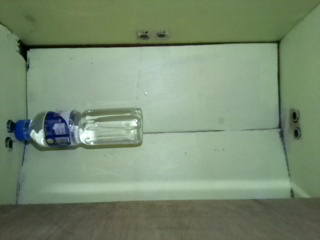bottle: (14, 107, 146, 153)
